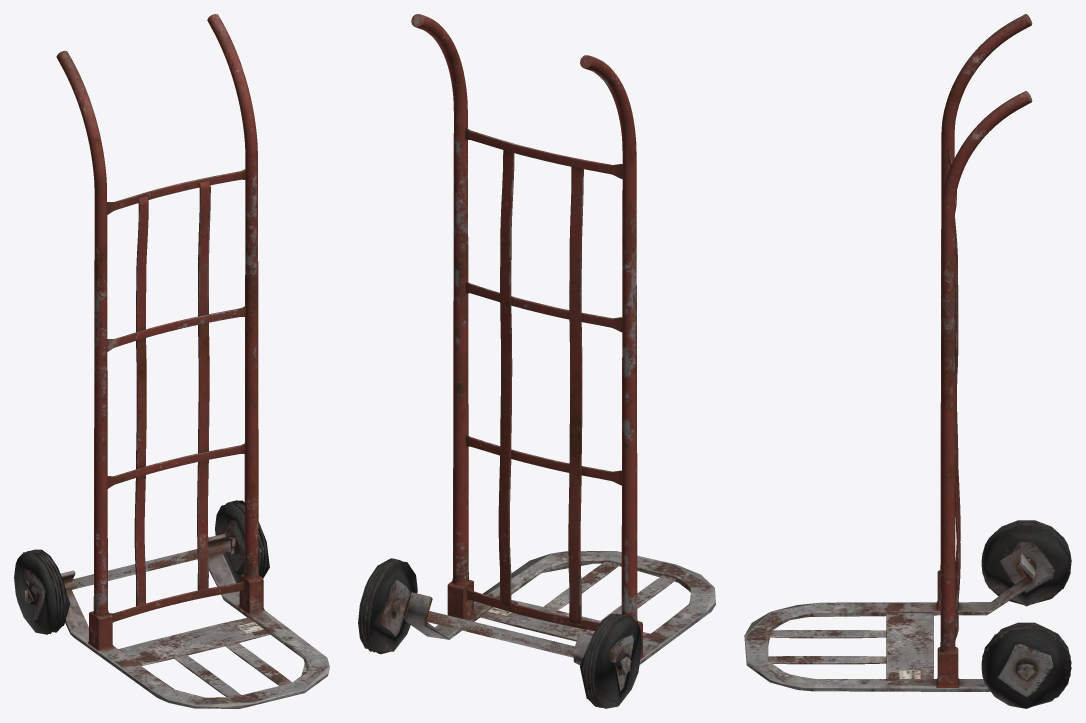
Rendered from hand_truck.glb.
3 renders of one model, left to right at view 1: azimuth 30°, elevation 25°; view 2: azimuth 150°, elevation 25°; view 3: azimuth 270°, elevation 25°, orthographic. The views are drawn at different scales.
Visible parts, largest first — view 1: hand_truck; view 2: hand_truck; view 3: hand_truck.
Part boxes in pixels (bbox=[...]): hand_truck: bbox=[14, 14, 329, 708]; hand_truck: bbox=[358, 14, 715, 708]; hand_truck: bbox=[744, 14, 1071, 708].
Size of the model in its own units: 0.5933 by 1.4 by 0.6921.
1 material, 1 textured.
